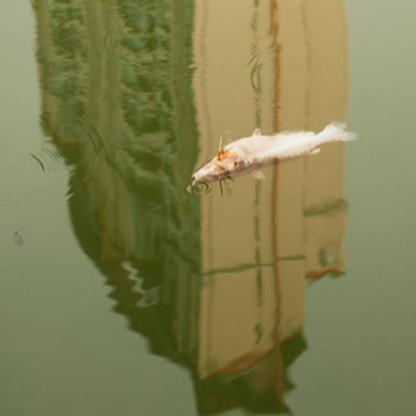deceased fish: (186, 115, 361, 183)
